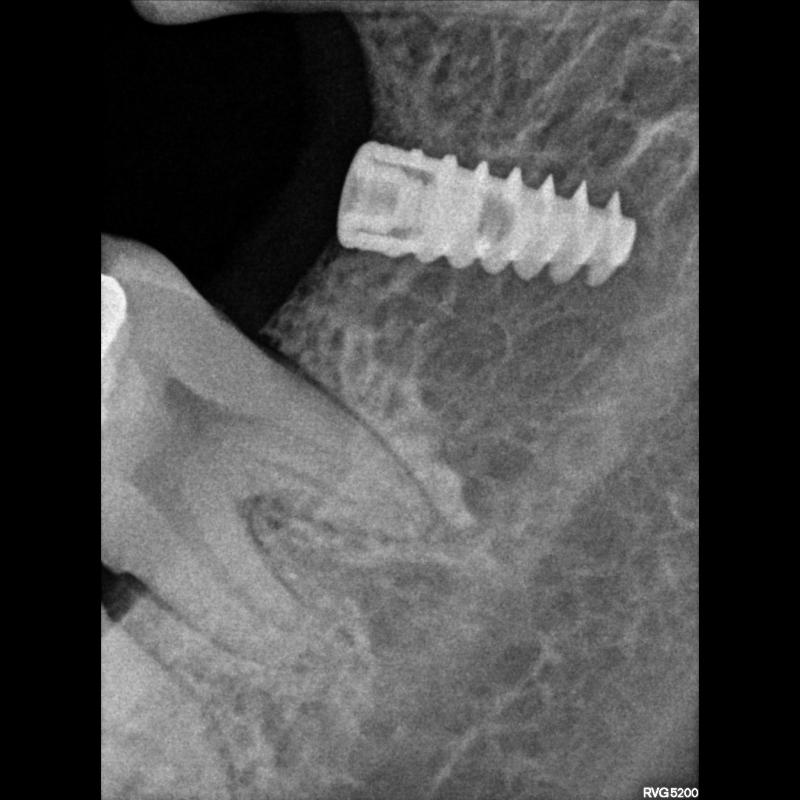ADIN: (327, 125, 646, 292)
